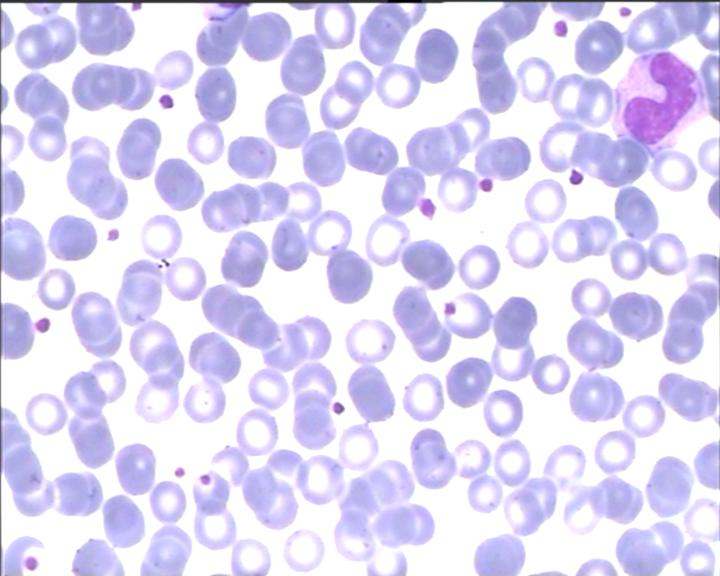mono: (607, 50, 711, 153)
